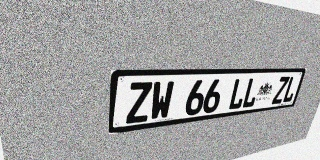6: (184, 80, 208, 116), (202, 79, 224, 114)
L: (227, 78, 248, 110), (241, 78, 261, 108), (282, 76, 300, 103)
W: (149, 81, 174, 121)
Z: (126, 82, 152, 124), (271, 76, 290, 104)
